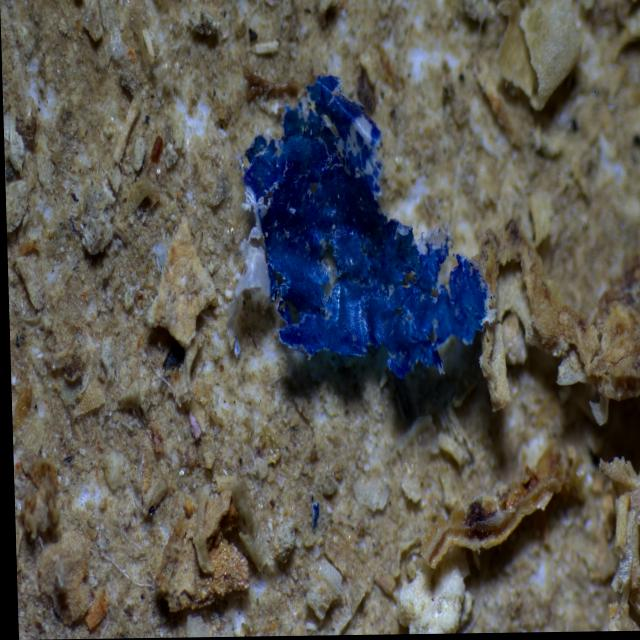microplastic: (176, 71, 516, 428), (293, 490, 326, 538)
